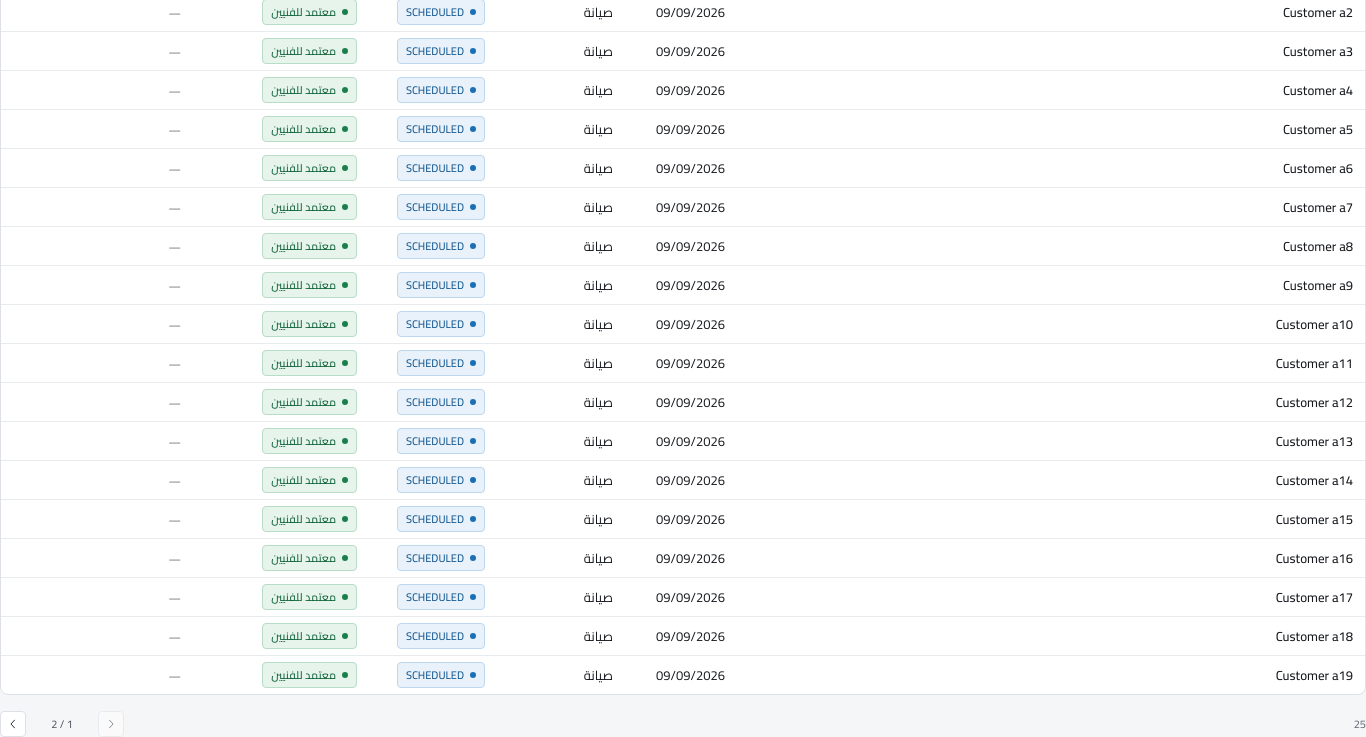
it: Scheduling Appointments: pagination UI › shows page 1 of 2 on mount and advances to page 2 (5 rows) on next
(page scrolled)
Click the button named "Next page": (13, 724) left=0, top=711, right=26, bottom=736
(page scrolled)
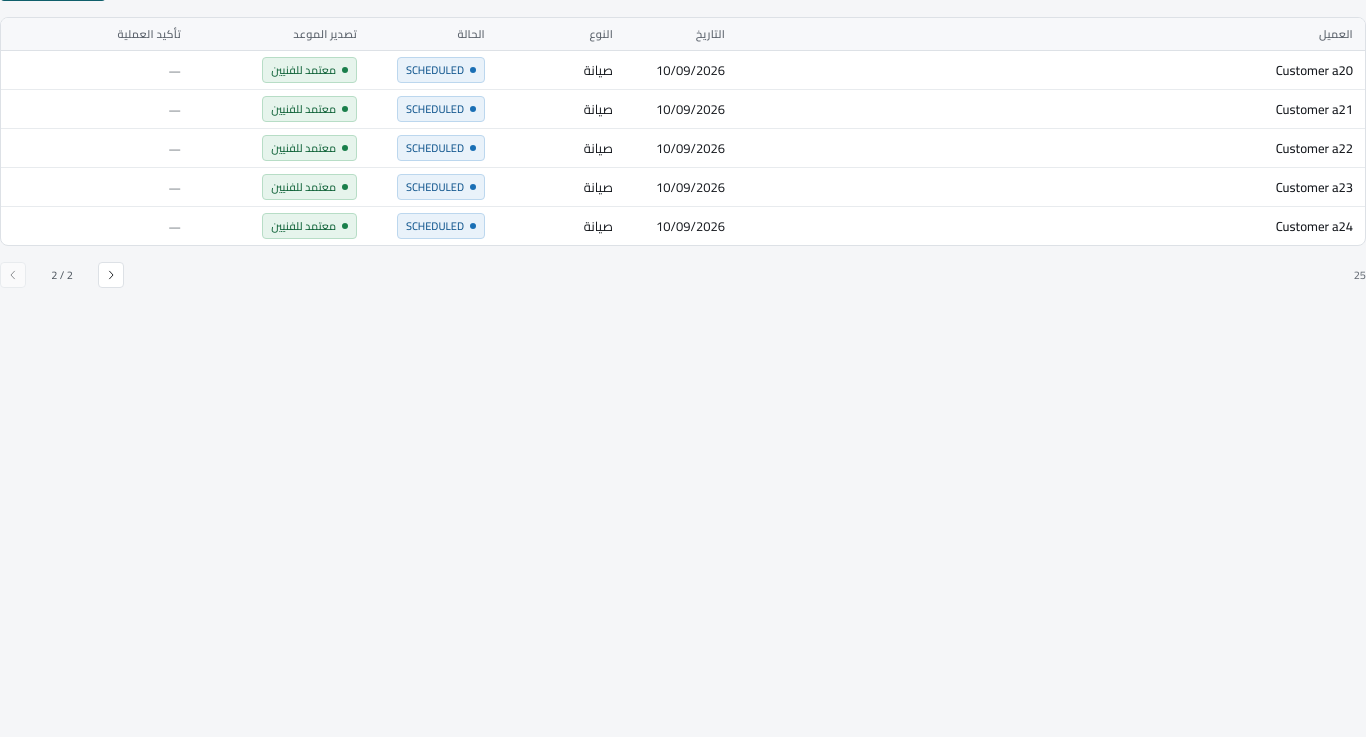
Check: the text "2 / 2" is shown, box left=51, top=265, right=73, bottom=285
